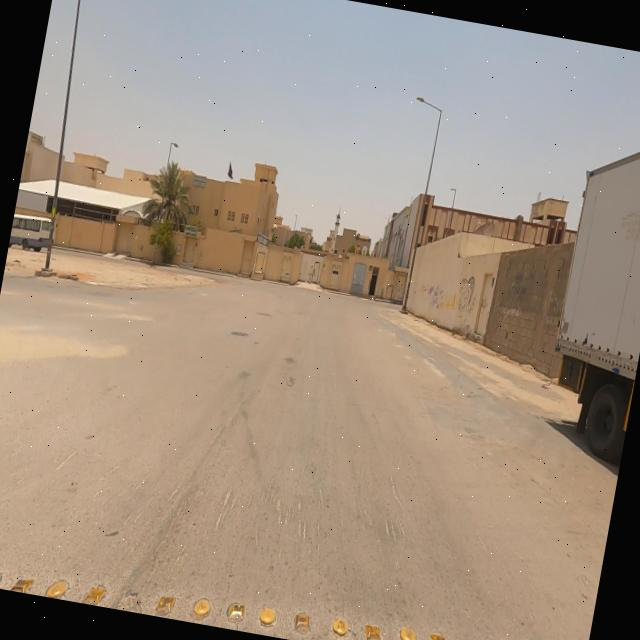Graffiti: (417, 267, 482, 320), (507, 271, 533, 301), (479, 295, 490, 316)
